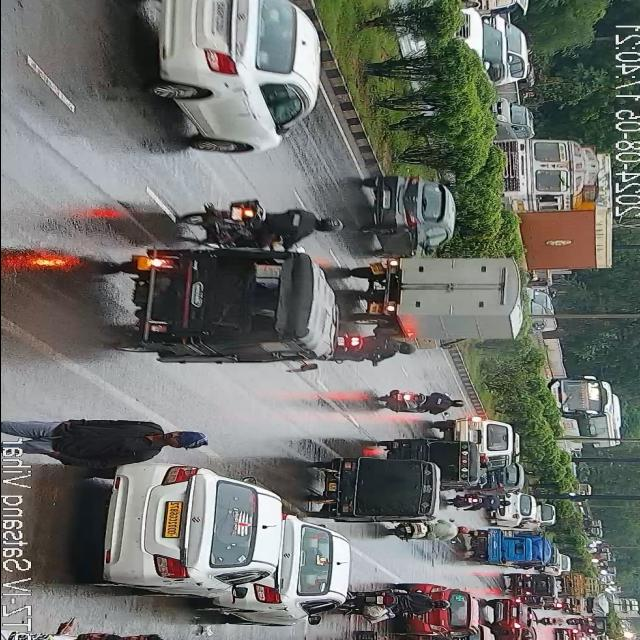2-wheelers: (188, 192, 334, 250), (377, 382, 465, 416), (369, 585, 452, 621), (392, 518, 468, 548), (447, 487, 505, 509), (561, 611, 613, 632)
auto: (110, 258, 322, 364), (310, 448, 440, 528), (369, 170, 455, 256), (406, 436, 480, 490), (476, 528, 528, 564), (504, 572, 554, 601), (458, 0, 537, 12), (504, 532, 528, 564), (525, 534, 545, 562)
bus: (542, 374, 618, 446)
car: (152, 0, 326, 154), (98, 464, 280, 604), (233, 520, 350, 624), (440, 417, 518, 463), (412, 585, 470, 639), (487, 599, 537, 640), (496, 490, 534, 524), (493, 462, 521, 494), (526, 502, 558, 528), (534, 534, 554, 564)
pedestrian: (42, 412, 206, 464), (35, 629, 170, 640)
truck: (352, 244, 532, 346), (495, 132, 613, 286), (457, 0, 533, 90), (557, 572, 601, 601)
